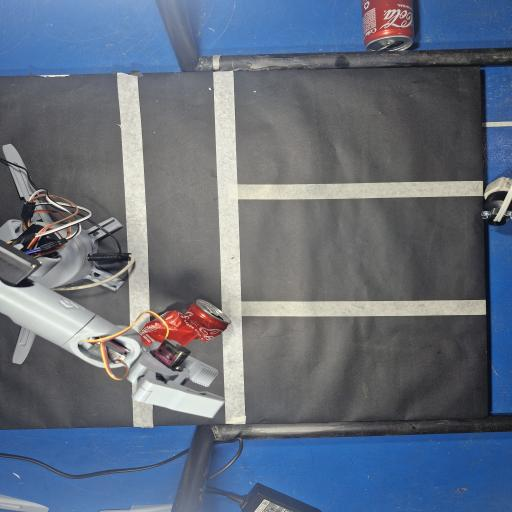lata_defectuoso: (160, 299, 231, 346), (139, 319, 166, 347)
